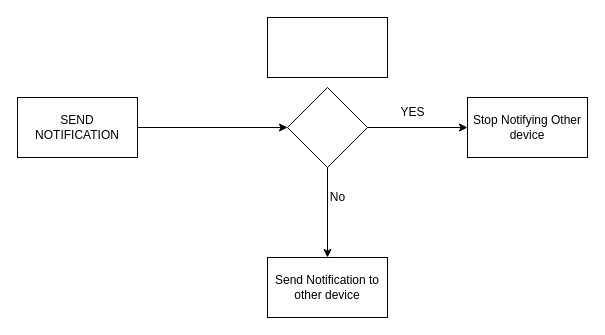
Image size: 605x335. Some labels were removed from this diagram. The shapes that lost their labels are listed below. From the top down, each one's centre as x and y in pixels, then its label:
pixel 327 47: CASE
pixel 327 127: If seen
